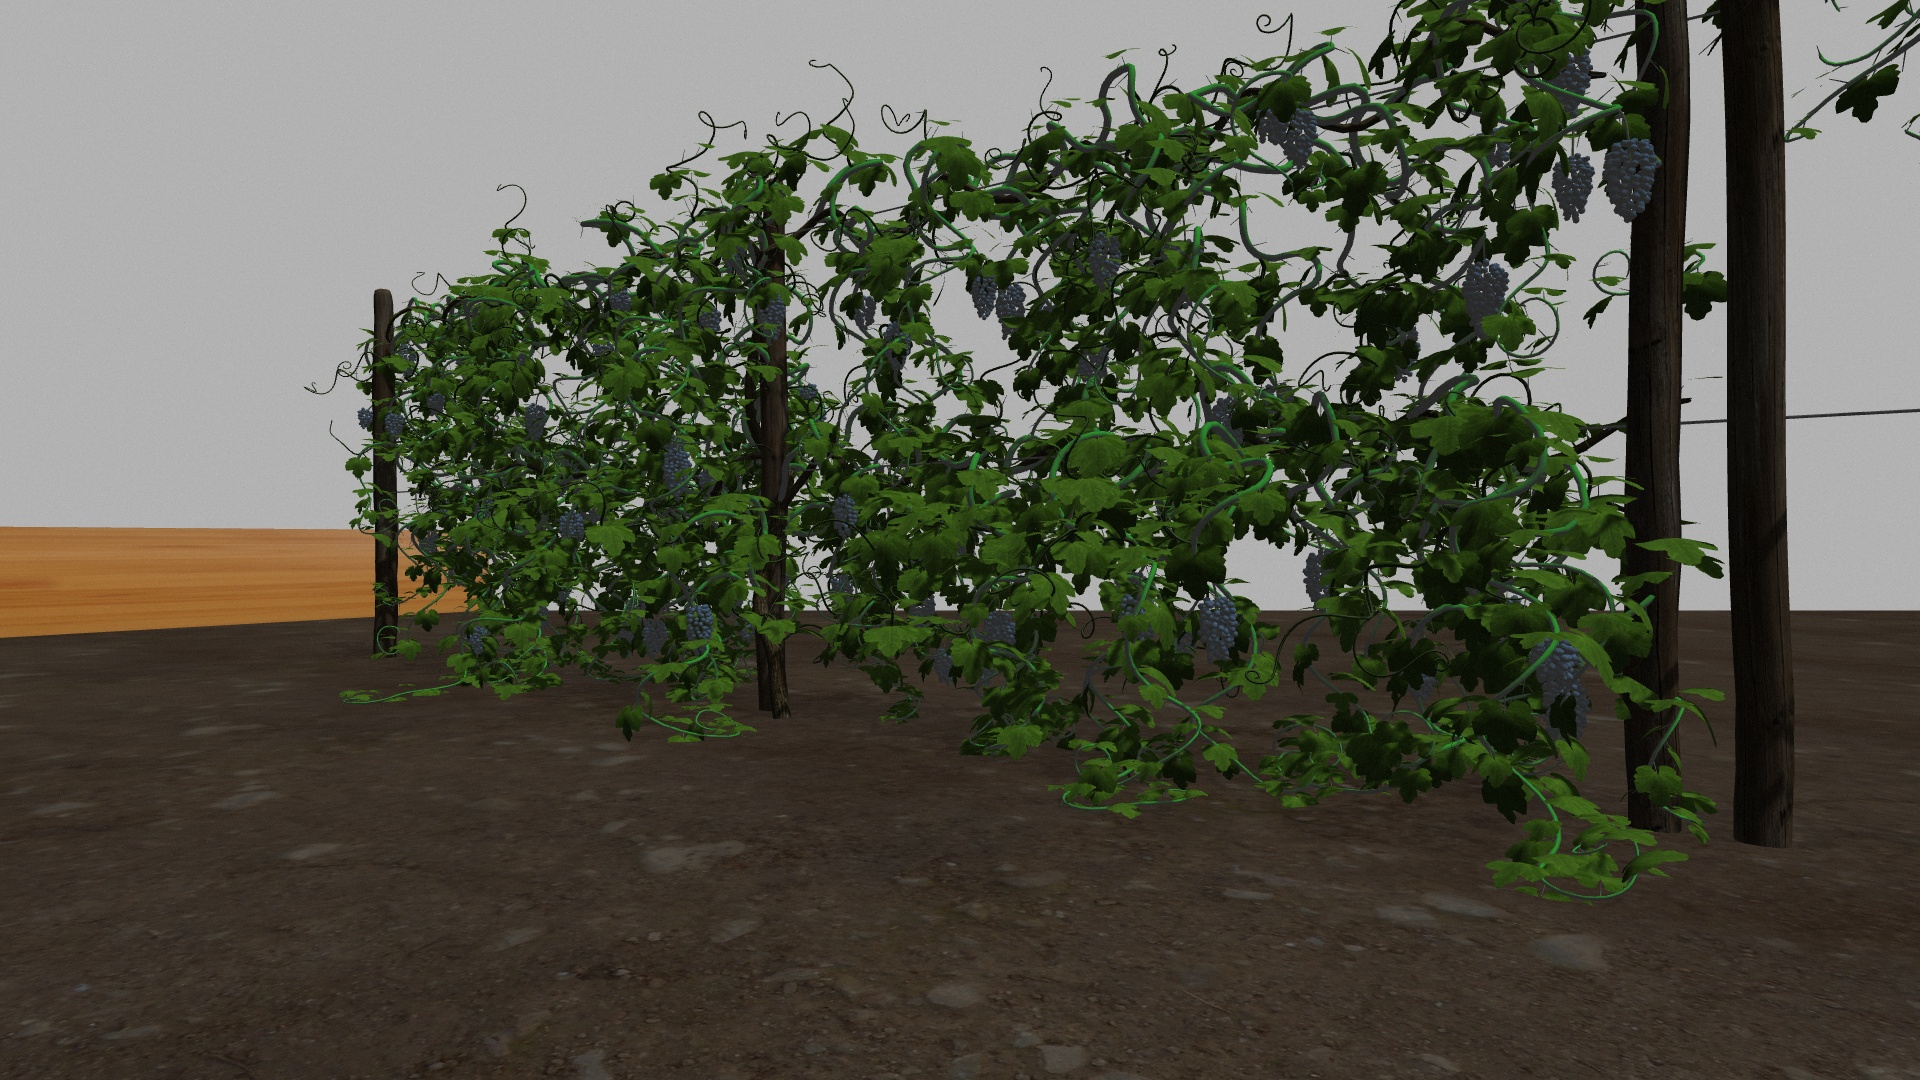grape: (1528, 640, 1592, 738), (1604, 137, 1660, 222), (1460, 258, 1510, 336), (1551, 153, 1594, 225), (1545, 50, 1593, 111), (1197, 597, 1240, 665), (1302, 551, 1341, 615), (1282, 104, 1319, 167), (1087, 232, 1122, 287), (997, 284, 1027, 342), (663, 447, 694, 502), (971, 262, 1000, 319), (756, 291, 787, 342), (1255, 99, 1288, 145), (982, 611, 1017, 650), (832, 495, 862, 538), (684, 603, 717, 640), (640, 617, 669, 657), (524, 404, 550, 443), (934, 646, 959, 687), (558, 512, 584, 545), (467, 625, 493, 655), (384, 411, 405, 439), (699, 311, 723, 334), (611, 291, 632, 313), (426, 393, 446, 414), (357, 407, 375, 430)
